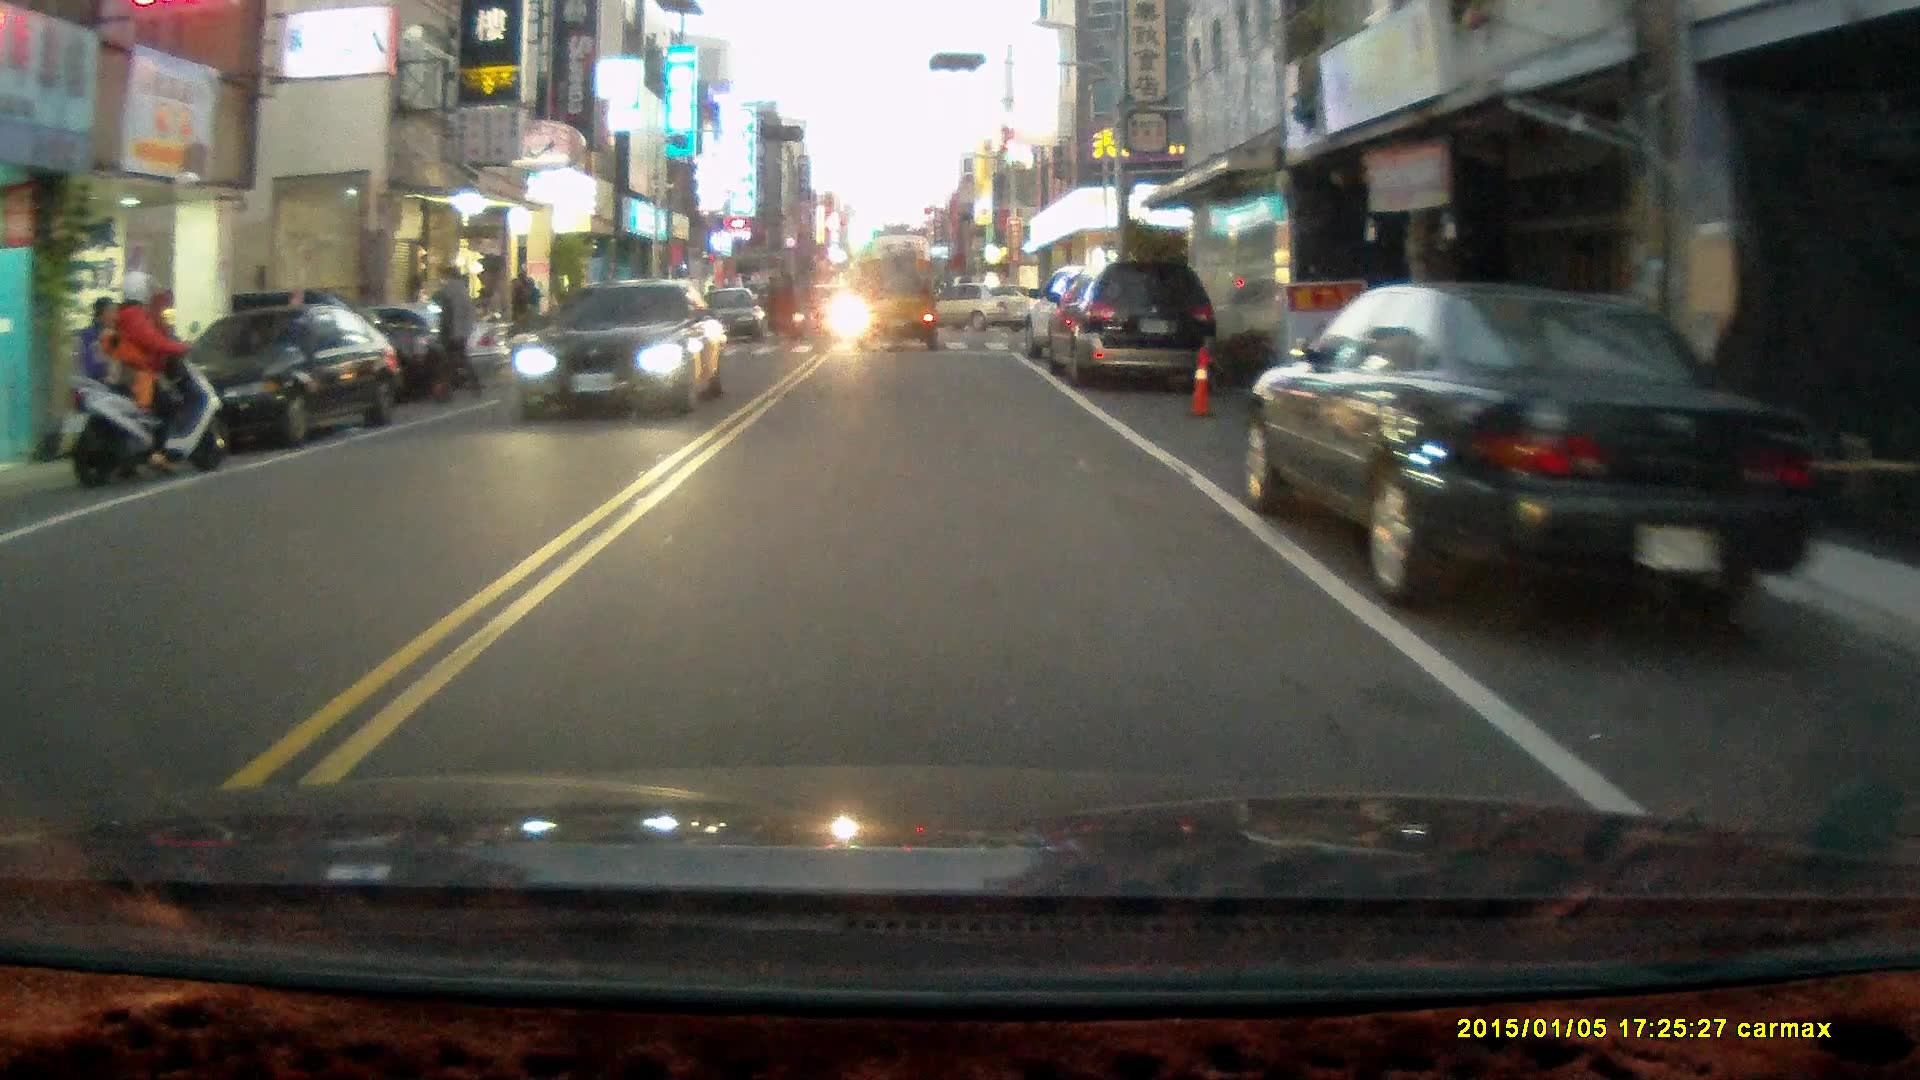pedestrian: (428, 262, 476, 405)
rider: (67, 267, 225, 487)
vehicle: (1243, 279, 1847, 618), (166, 305, 400, 456), (515, 279, 731, 418), (260, 298, 516, 392), (1039, 259, 1220, 389), (857, 260, 942, 354), (904, 280, 1037, 337)
